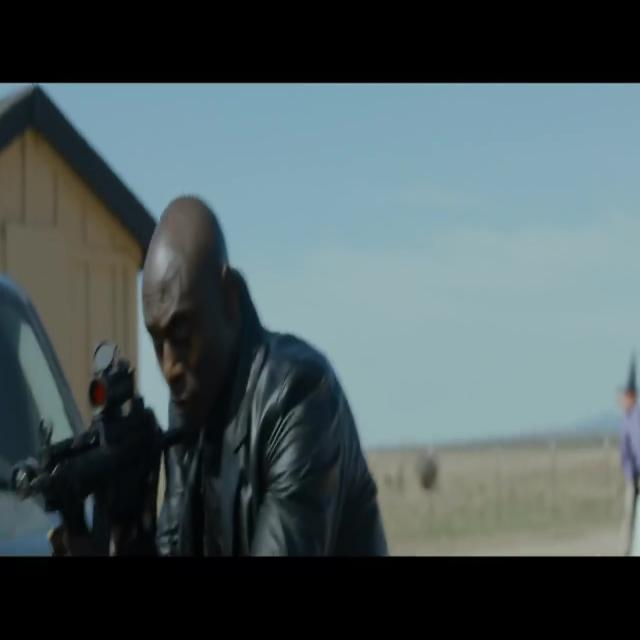Weapon: (6, 353, 219, 532)
